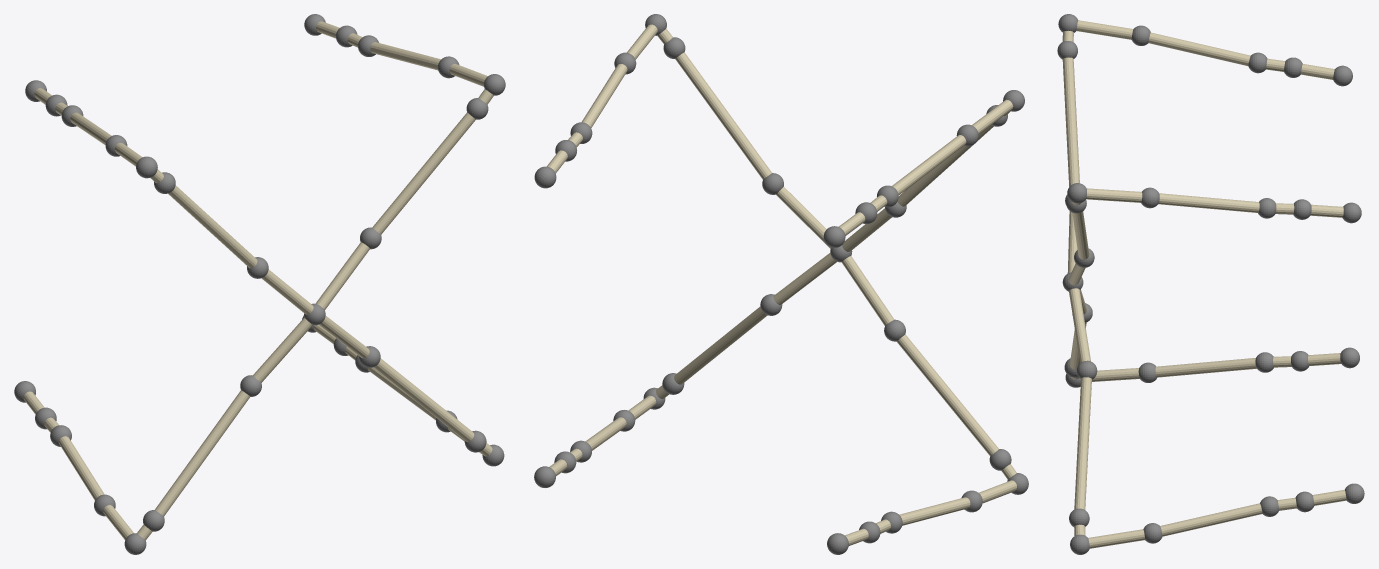
3 views of the same model, side by side, from view 1: azimuth 30°, elevation 25°; view 2: azimuth 150°, elevation 25°; view 3: azimuth 270°, elevation 25° (orthographic). The views are drawn at different scales.
Visible parts, largest first — view 1: world; view 2: world; view 3: world.
Part boxes in pixels (x1=…): world: x1=14, y1=14, x2=505, y2=554; world: x1=534, y1=14, x2=1028, y2=554; world: x1=1057, y1=14, x2=1364, y2=554.
Bounding box in the file's own units: 0.6004 × 0.603 × 0.4458.
